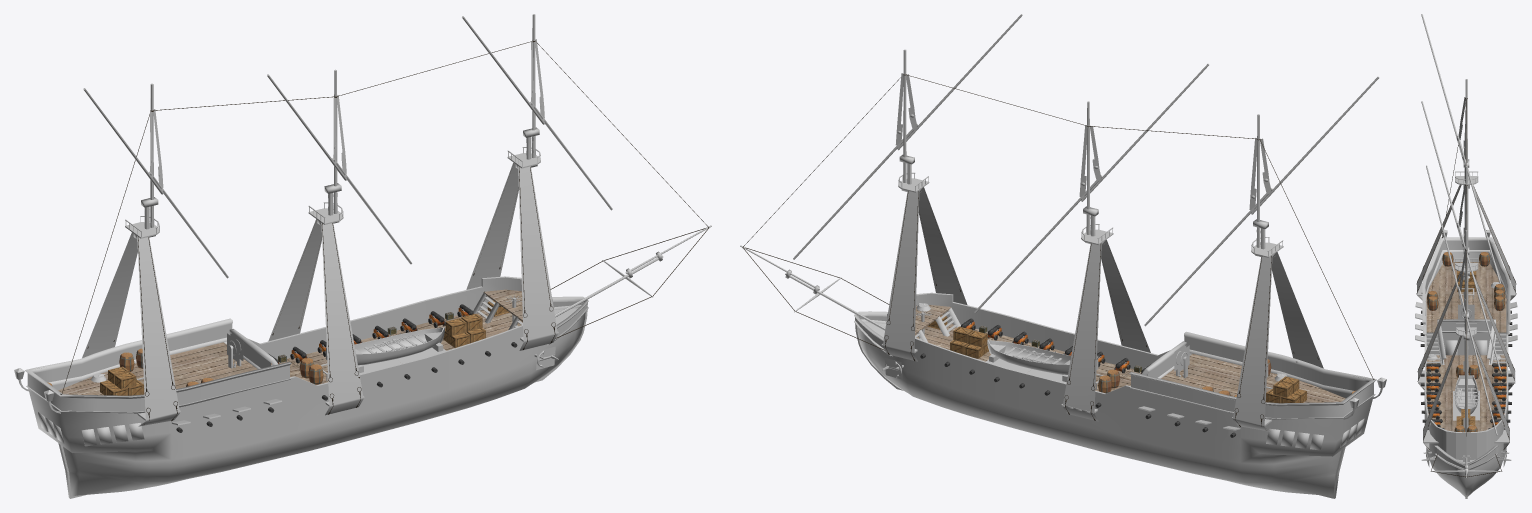
The model's file is GalleyLD1.FBX.
The picture shows the model from 3 angles, left to right: view 1: azimuth 30°, elevation 25°; view 2: azimuth 150°, elevation 25°; view 3: azimuth 270°, elevation 25°; orthographic projection. The views are drawn at different scales.
Visible parts, largest first — view 1: GalleyCorpsLD1_001, VantsLow_016, GalleyMastsLD0_006, GalleyBoardsLow_009, DeckLD0_009, GalleyBoardsLD0_007, BoatLD1_003, Rope1LD0_027, MastsRopesLow_003, VantsLD0_012, ShipElementsLOW_015, WindowLD1_001; view 2: GalleyCorpsLD1_001, VantsLow_016, GalleyMastsLD0_006, GalleyBoardsLow_009, DeckLD0_009, GalleyBoardsLD0_007, BoatLD1_003, MastsRopesLow_003, Rope1LD0_027, VantsLD0_012, ShipElementsLOW_015, WindowLD1_001; view 3: GalleyCorpsLD1_001, DeckLD0_009, GalleyMastsLD0_006, GalleyBoardsLD0_007, VantsLow_016, GalleyBoardsLow_009, VantsLD0_012, BoatLD1_003, MastsRopesLow_003, Rope1LD0_027, ShipElementsLOW_015, GalleyRopesLD0_009 (+7 smaller).
Boxes of the visible parts, x1=… form: GalleyCorpsLD1_001: x1=28, y1=276, x2=587, y2=498; VantsLow_016: x1=82, y1=162, x2=557, y2=426; GalleyMastsLD0_006: x1=60, y1=14, x2=711, y2=420; GalleyBoardsLow_009: x1=27, y1=301, x2=587, y2=411; DeckLD0_009: x1=58, y1=289, x2=522, y2=395; GalleyBoardsLD0_007: x1=24, y1=292, x2=588, y2=413; BoatLD1_003: x1=354, y1=327, x2=444, y2=373; Rope1LD0_027: x1=62, y1=41, x2=708, y2=393; MastsRopesLow_003: x1=150, y1=39, x2=544, y2=187; VantsLD0_012: x1=87, y1=167, x2=555, y2=424; ShipElementsLOW_015: x1=227, y1=332, x2=555, y2=374; WindowLD1_001: x1=38, y1=412, x2=144, y2=446; GalleyCorpsLD1_001: x1=855, y1=292, x2=1373, y2=498; VantsLow_016: x1=883, y1=187, x2=1323, y2=431; GalleyMastsLD0_006: x1=740, y1=14, x2=1379, y2=426; GalleyBoardsLow_009: x1=855, y1=316, x2=1374, y2=418; DeckLD0_009: x1=915, y1=305, x2=1345, y2=402; GalleyBoardsLD0_007: x1=854, y1=307, x2=1376, y2=419; BoatLD1_003: x1=987, y1=340, x2=1071, y2=381; MastsRopesLow_003: x1=895, y1=73, x2=1270, y2=209; Rope1LD0_027: x1=743, y1=74, x2=1372, y2=378; VantsLD0_012: x1=884, y1=191, x2=1318, y2=430; ShipElementsLOW_015: x1=884, y1=344, x2=1189, y2=383; WindowLD1_001: x1=1266, y1=418, x2=1364, y2=450; GalleyCorpsLD1_001: x1=1415, y1=252, x2=1517, y2=498; DeckLD0_009: x1=1426, y1=262, x2=1506, y2=431; GalleyMastsLD0_006: x1=1417, y1=14, x2=1515, y2=477; GalleyBoardsLD0_007: x1=1422, y1=237, x2=1510, y2=470; VantsLow_016: x1=1417, y1=184, x2=1515, y2=450; GalleyBoardsLow_009: x1=1425, y1=241, x2=1507, y2=468; VantsLD0_012: x1=1416, y1=184, x2=1516, y2=449; BoatLD1_003: x1=1454, y1=375, x2=1478, y2=416; MastsRopesLow_003: x1=1458, y1=97, x2=1467, y2=310; Rope1LD0_027: x1=1431, y1=99, x2=1501, y2=477; ShipElementsLOW_015: x1=1426, y1=304, x2=1506, y2=466; GalleyRopesLD0_009: x1=1423, y1=20, x2=1499, y2=430.
Bounding box in the file's own units: 706 × 432 × 127.
